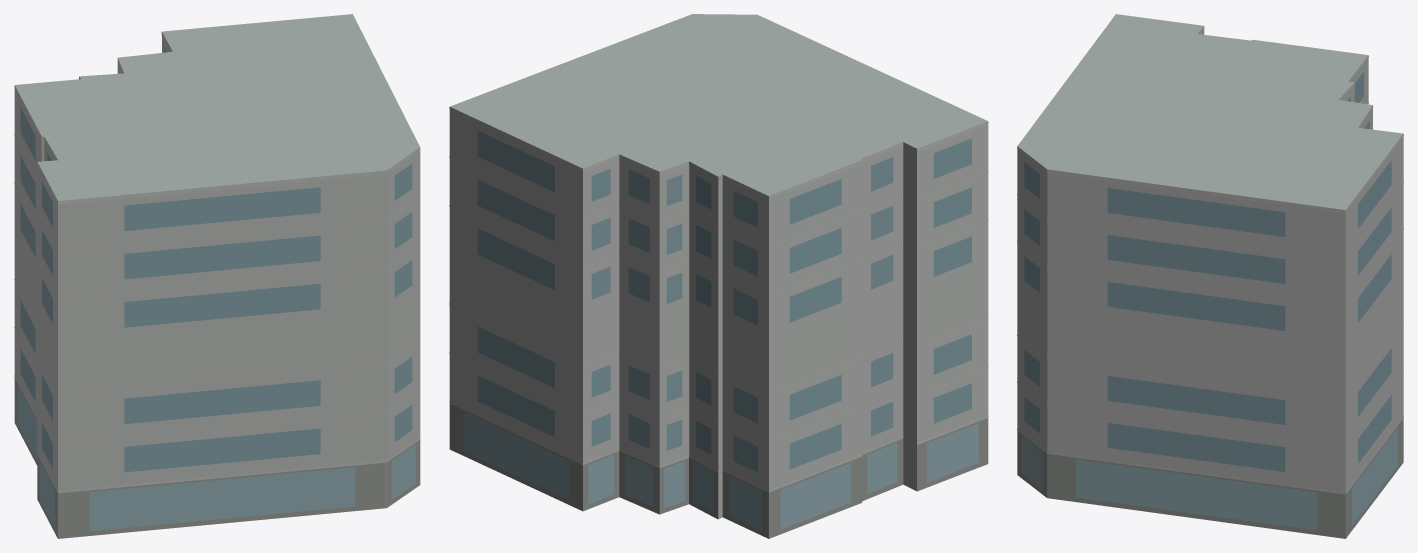
File: survey-upis-33024319.glb
3 renders of one model, left to right at view 1: azimuth 30°, elevation 25°; view 2: azimuth 150°, elevation 25°; view 3: azimuth 270°, elevation 25°, orthographic. The views are drawn at different scales.
Parts seen in each view (by area): view 1: survey-upis-33024319.tmp; view 2: survey-upis-33024319.tmp; view 3: survey-upis-33024319.tmp.
Boxes of the visible parts, box(x1,y1,x2,y2) form: survey-upis-33024319.tmp: box(14, 14, 420, 538); survey-upis-33024319.tmp: box(449, 14, 988, 538); survey-upis-33024319.tmp: box(1017, 14, 1403, 538).
Bounding box in the file's own units: 26.5 × 20.7 × 22.07.
